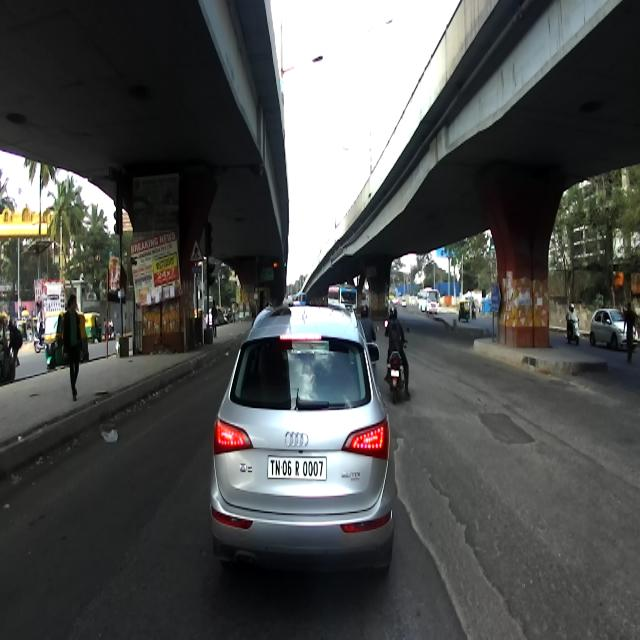car ahead at: (208, 277, 392, 594)
